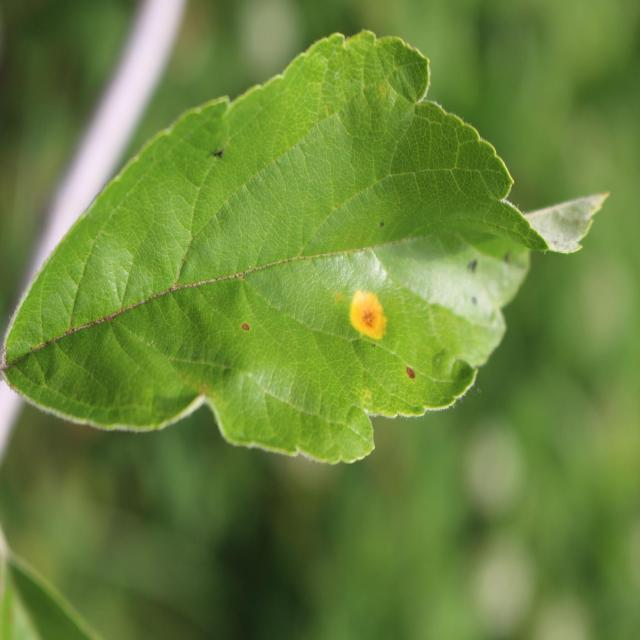Rust: (334, 283, 399, 357)
